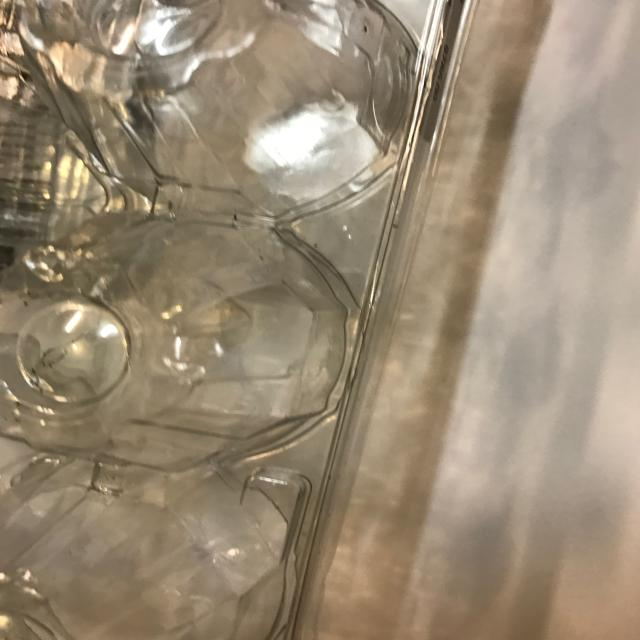plastic: (0, 0, 475, 639)
